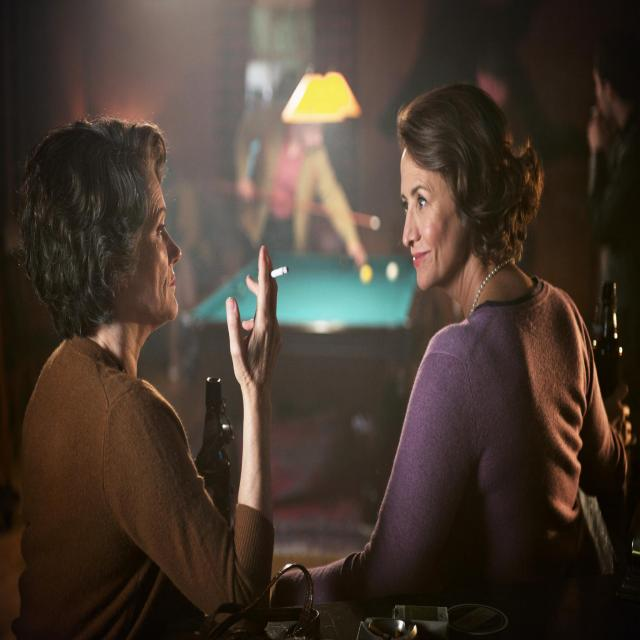Сигарета: (270, 266, 287, 280)
Тело: (303, 82, 629, 640), (22, 117, 272, 620)
